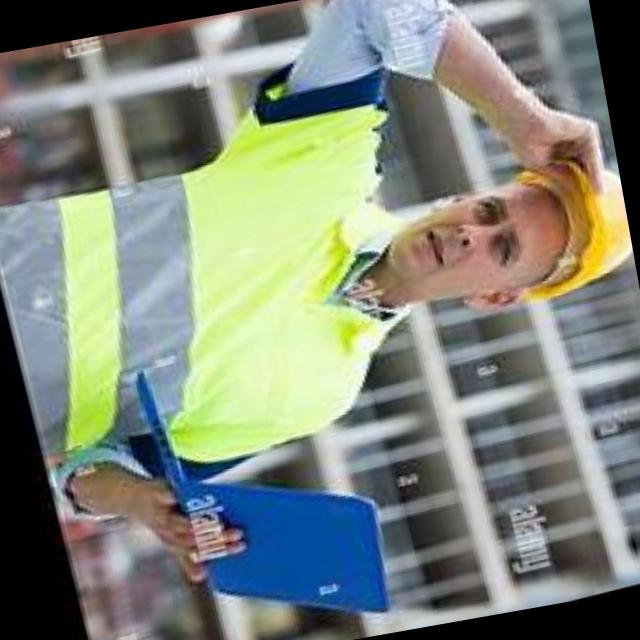not-gloved: (127, 468, 258, 602), (496, 96, 620, 201)
